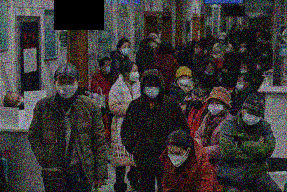mask_weared_incorrect: (204, 65, 215, 77)
with_mask: (54, 78, 79, 100), (166, 148, 188, 168), (242, 109, 263, 127), (142, 82, 161, 100), (207, 99, 224, 117), (190, 96, 204, 111), (13, 94, 25, 111), (177, 73, 191, 87), (128, 68, 140, 83), (235, 78, 246, 92), (121, 44, 132, 57), (238, 43, 248, 54), (104, 62, 111, 76), (256, 59, 263, 72), (149, 40, 158, 49), (193, 45, 201, 55), (240, 65, 247, 74), (262, 50, 269, 59), (223, 58, 230, 66), (218, 38, 225, 45)
